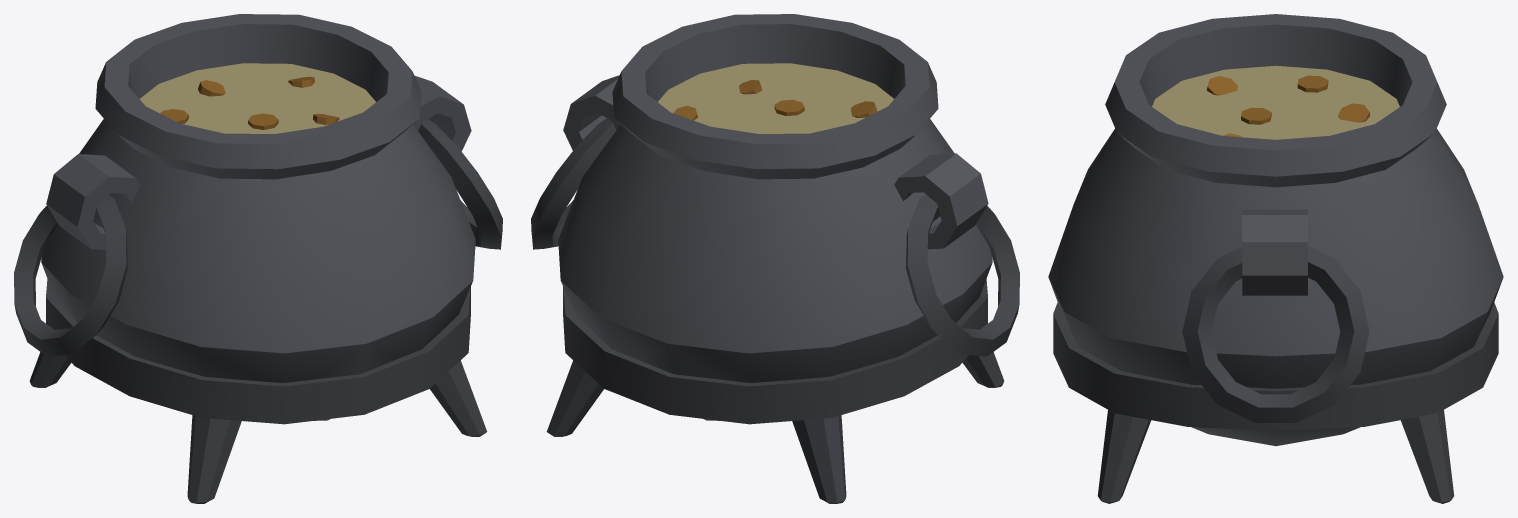
The model's file is Cauldron.gltf.
The picture shows the model from 3 angles, left to right: view 1: azimuth 30°, elevation 25°; view 2: azimuth 150°, elevation 25°; view 3: azimuth 270°, elevation 25°; orthographic projection. The views are drawn at different scales.
Visible parts, largest first — view 1: Cauldron; view 2: Cauldron; view 3: Cauldron.
Boxes of the visible parts, x1=… form: Cauldron: x1=14, y1=14, x2=502, y2=503; Cauldron: x1=531, y1=14, x2=1019, y2=503; Cauldron: x1=1048, y1=14, x2=1503, y2=503.
Size of the model in its own units: 0.3607 by 0.2518 by 0.2988.
